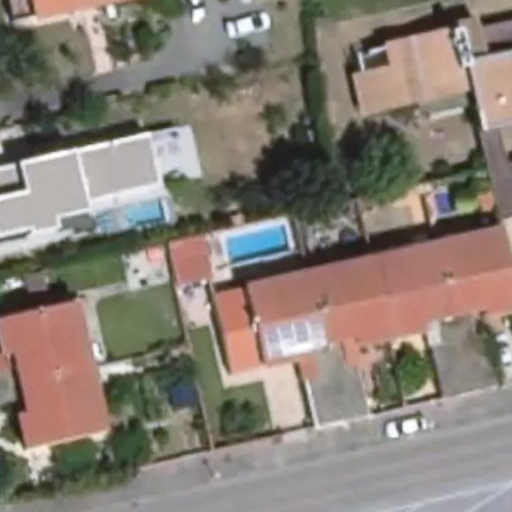pool: (222, 234, 290, 249)
